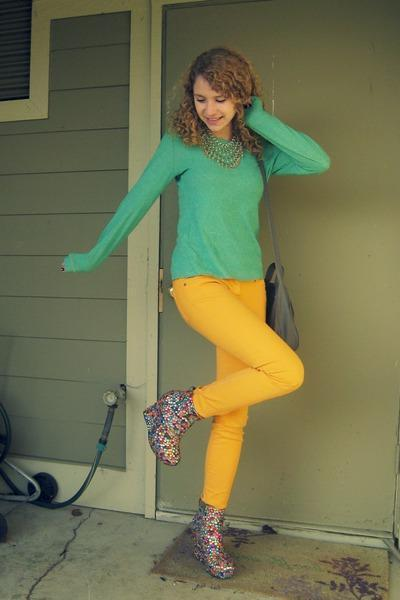sweater: (57, 96, 332, 281)
trousers: (165, 269, 308, 518)
